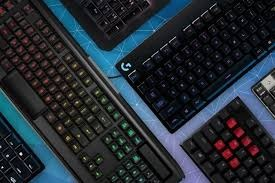keyboard: (0, 1, 275, 179)
